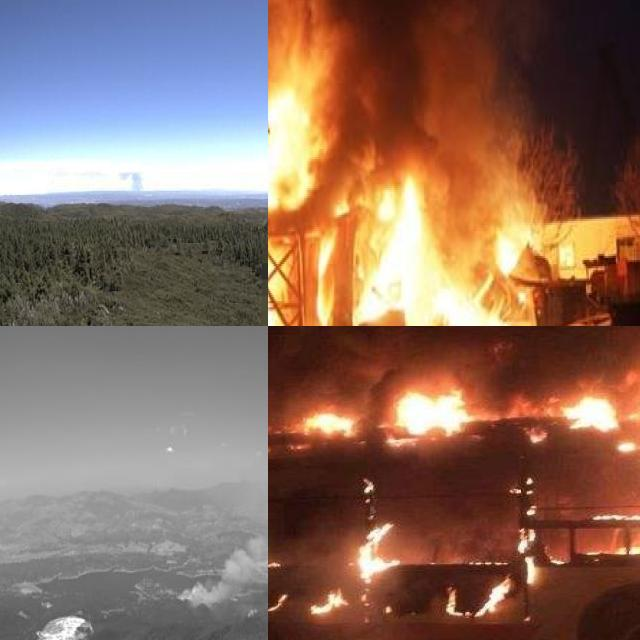fire: (268, 89, 528, 326), (387, 382, 494, 446), (544, 383, 623, 441), (440, 572, 514, 621), (288, 404, 358, 446), (515, 473, 541, 586), (357, 518, 396, 582), (305, 588, 356, 621)
smoke: (268, 0, 558, 209), (173, 468, 268, 610), (112, 167, 145, 200)
